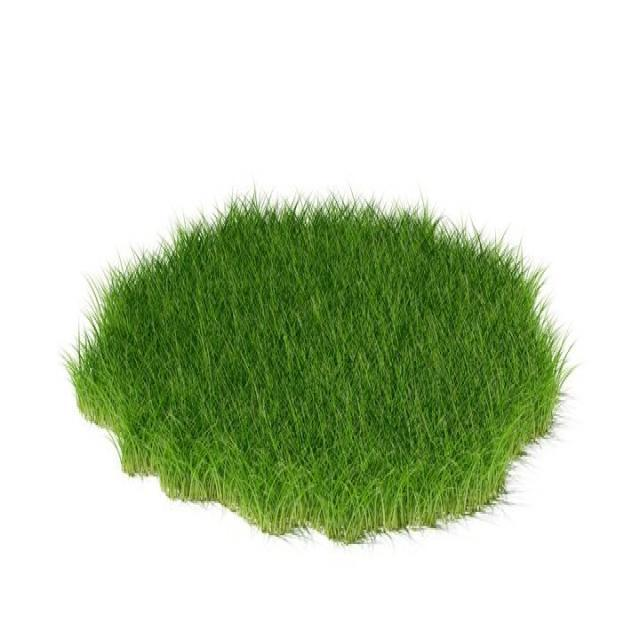Circle: (79, 199, 558, 537)
